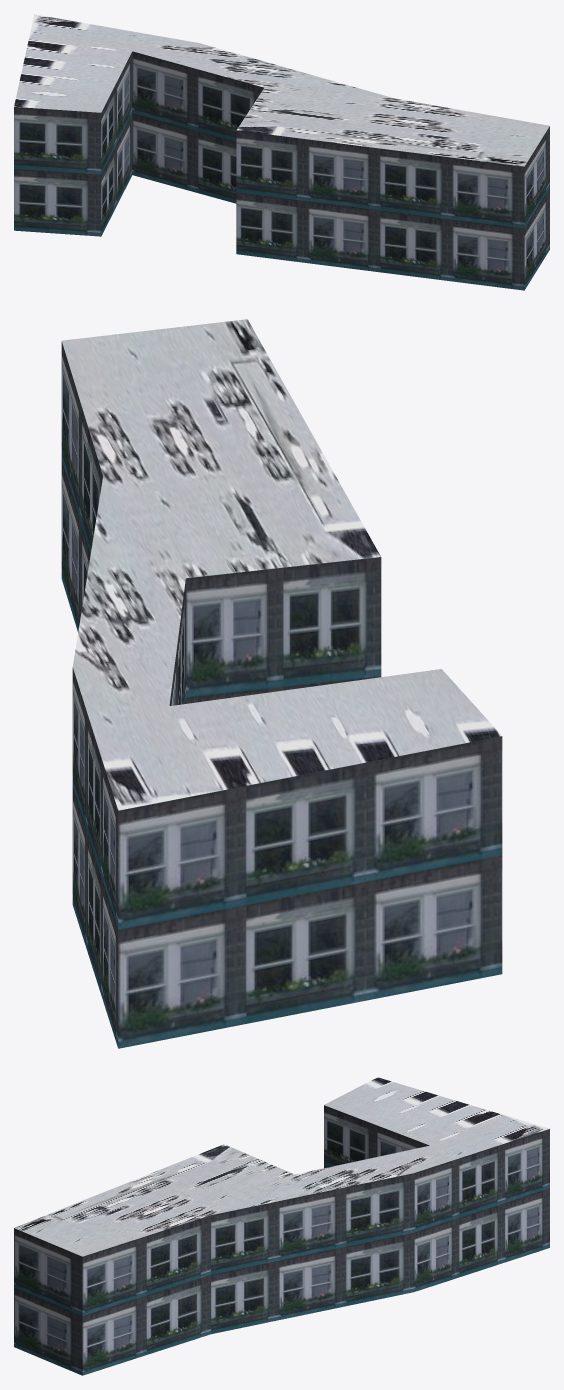
Rendered from ResTex__522.fbx.
3 renders of one model, top to bottom at view 1: azimuth 30°, elevation 25°; view 2: azimuth 150°, elevation 25°; view 3: azimuth 270°, elevation 25°, orthographic. The views are drawn at different scales.
Parts seen in each view (by area): view 1: CityEngineMaterial_11_m, CityEngineMaterial_8_m; view 2: CityEngineMaterial_11_m, CityEngineMaterial_8_m; view 3: CityEngineMaterial_11_m, CityEngineMaterial_8_m.
Part boxes in pixels (x1,y1,x2,y2): CityEngineMaterial_11_m: (14, 51, 549, 290); CityEngineMaterial_8_m: (14, 14, 549, 166); CityEngineMaterial_11_m: (61, 341, 502, 1048); CityEngineMaterial_8_m: (62, 319, 501, 810); CityEngineMaterial_11_m: (14, 1105, 549, 1375); CityEngineMaterial_8_m: (14, 1077, 549, 1256).
Bounding box in the file's own units: 19.4 × 6 × 24.48.
2 materials, 2 textured.
